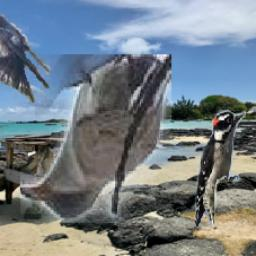Cuckoo: (20, 55, 171, 224)
Swallow: (0, 15, 50, 104)
Woodpecker: (194, 111, 245, 228)
